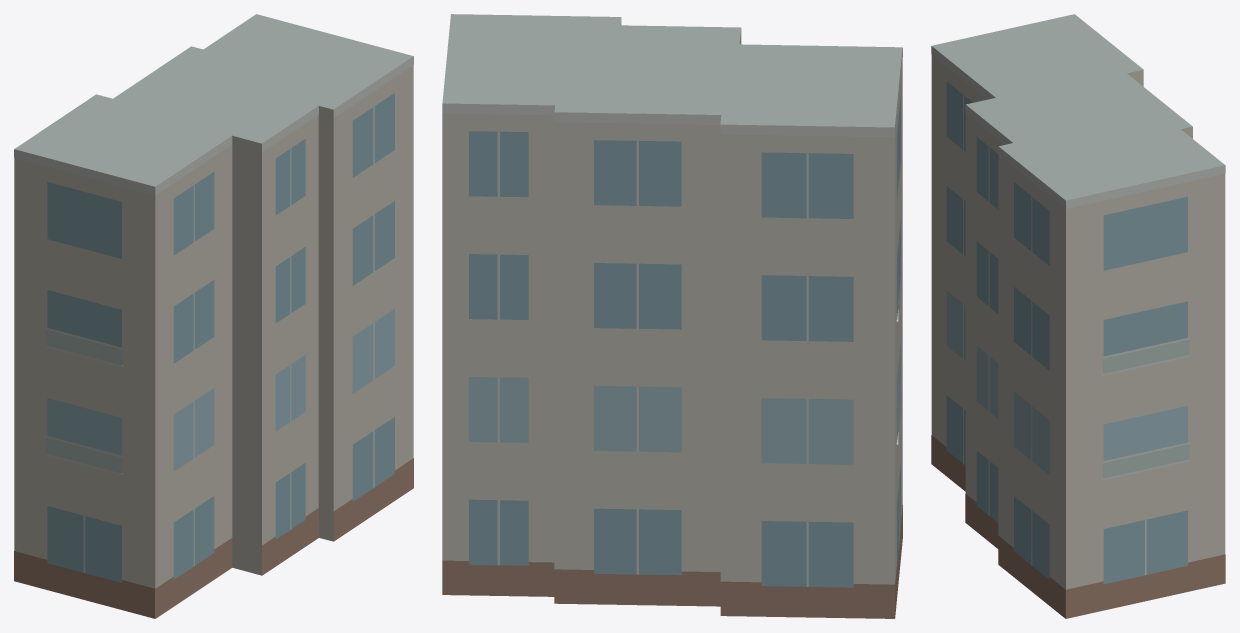
The model's file is residential-49cf549a-1037-46b3-8712-8e8c44be8604.glb.
The picture shows the model from 3 angles, left to right: view 1: azimuth 30°, elevation 25°; view 2: azimuth 150°, elevation 25°; view 3: azimuth 270°, elevation 25°; orthographic projection. The views are drawn at different scales.
Visible parts, largest first — view 1: residential-49cf549a-1037-46b3-8712-8e8c44be8604.tmp; view 2: residential-49cf549a-1037-46b3-8712-8e8c44be8604.tmp; view 3: residential-49cf549a-1037-46b3-8712-8e8c44be8604.tmp.
Part boxes in pixels (left/top/right/bottom): residential-49cf549a-1037-46b3-8712-8e8c44be8604.tmp: left=14, top=14, right=413, bottom=618; residential-49cf549a-1037-46b3-8712-8e8c44be8604.tmp: left=442, top=14, right=902, bottom=618; residential-49cf549a-1037-46b3-8712-8e8c44be8604.tmp: left=931, top=14, right=1225, bottom=618.
Bounding box in the file's own units: 11.68 × 12.2 × 7.78.
